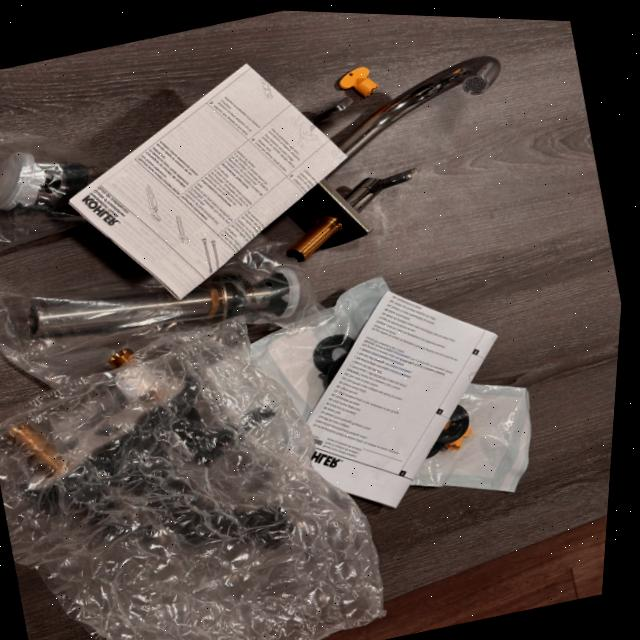10o: (285, 56, 499, 262)
11o: (0, 243, 307, 386), (0, 132, 105, 250)
12o: (412, 383, 529, 491)
13o: (249, 277, 387, 420)
14: (333, 66, 376, 98)
8: (69, 64, 346, 298), (306, 291, 495, 507)
9c: (0, 326, 382, 640)
